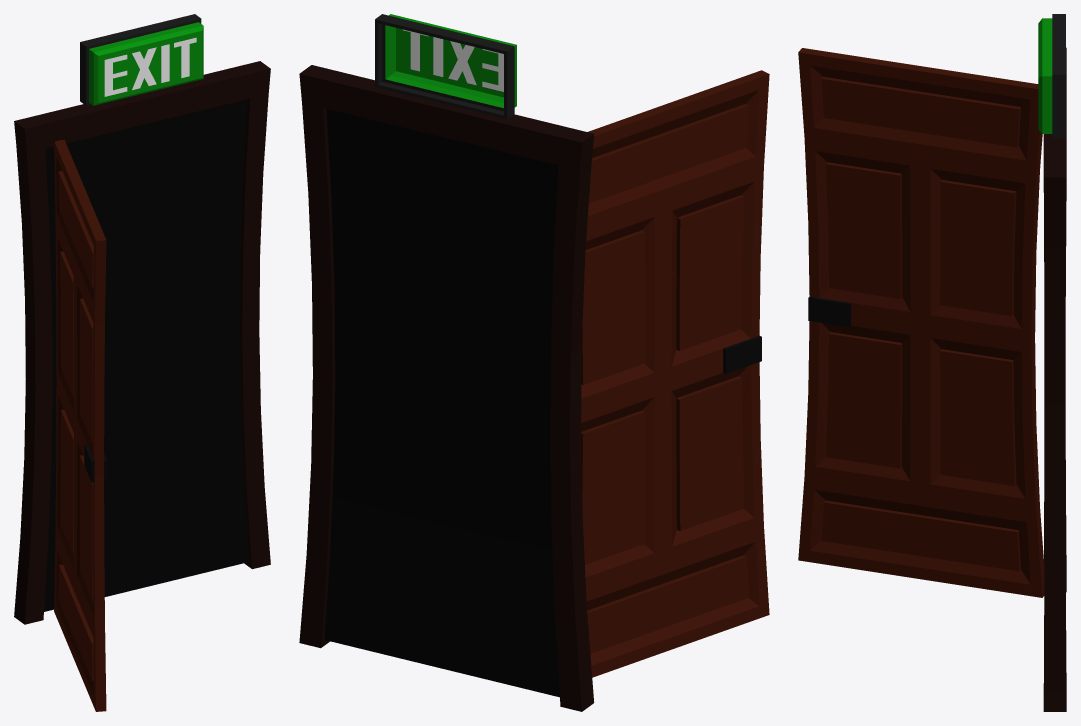
Rendered from prop_exit_door.FBX.
3 renders of one model, left to right at view 1: azimuth 30°, elevation 25°; view 2: azimuth 150°, elevation 25°; view 3: azimuth 270°, elevation 25°, orthographic. The views are drawn at different scales.
Visible parts, largest first — view 1: Object007; view 2: Object007; view 3: Object007.
Part boxes in pixels (x1,y1,x2,y2): Object007: (14, 14, 270, 711); Object007: (299, 14, 769, 711); Object007: (798, 14, 1066, 711).
Bounding box in the file's own units: 93.25 × 174 × 70.06.
